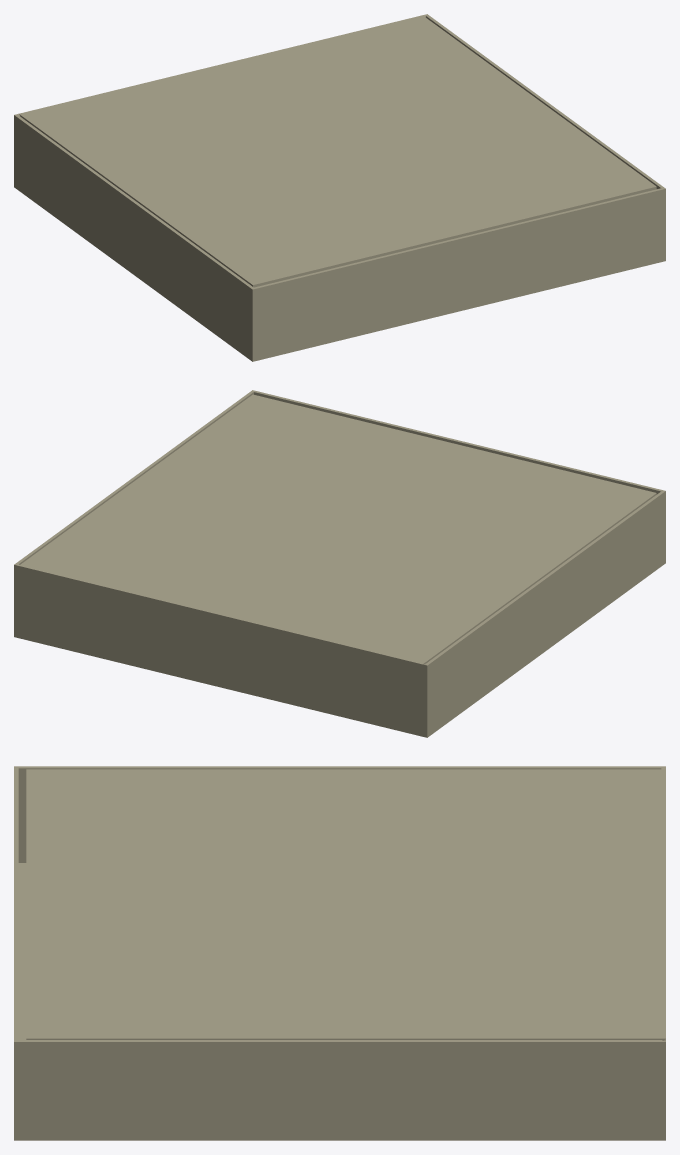
File: PS_PizzaBox02.fbx
3 renders of one model, top to bottom at view 1: azimuth 30°, elevation 25°; view 2: azimuth 150°, elevation 25°; view 3: azimuth 270°, elevation 25°, orthographic. The views are drawn at different scales.
Parts seen in each view (by area): view 1: PS_PizzaBox02; view 2: PS_PizzaBox02; view 3: PS_PizzaBox02.
Part boxes in pixels (x1,y1,x2,y2): PS_PizzaBox02: (14,14,665,361); PS_PizzaBox02: (14,390,665,737); PS_PizzaBox02: (14,766,665,1140).
Size of the model in its own units: 0.6943 by 0.1161 by 0.6943.
